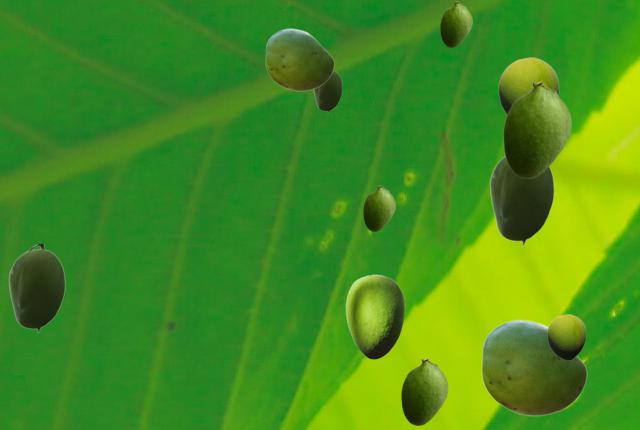green_mango: (481, 319, 586, 415), (503, 81, 570, 177), (489, 155, 553, 245), (345, 274, 404, 358), (8, 244, 64, 332), (265, 28, 333, 90), (498, 57, 558, 114), (401, 358, 447, 424), (547, 314, 585, 359), (363, 185, 394, 230), (440, 1, 471, 46), (313, 70, 341, 112)
